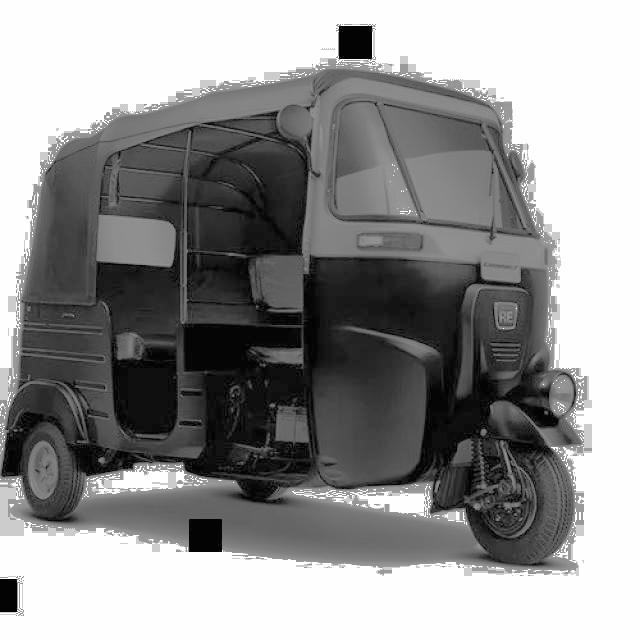Auto-Rickshaw: (14, 66, 595, 574)
